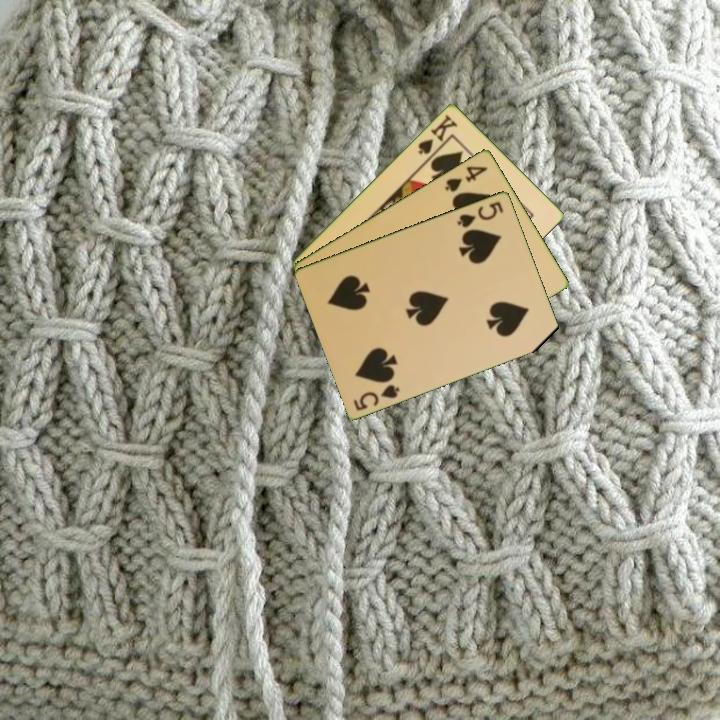4s: (441, 162, 491, 194)
5s: (350, 380, 403, 413), (453, 198, 506, 230)
Ks: (414, 110, 461, 162)
